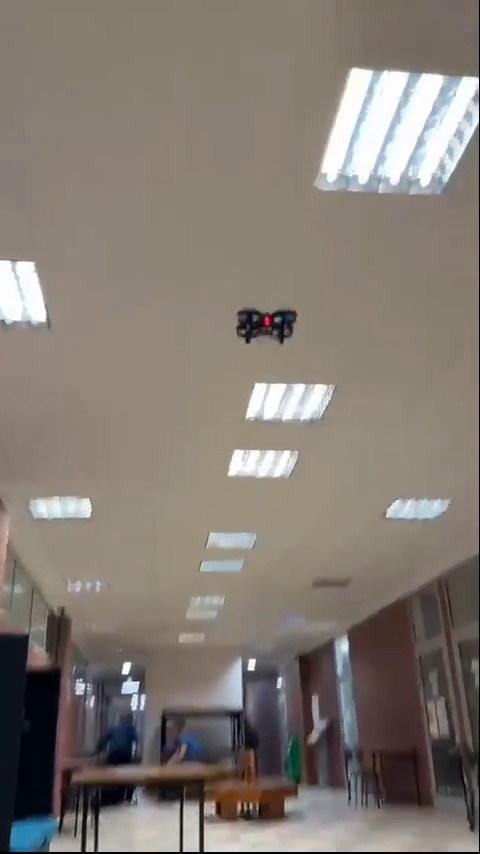drone: (236, 309, 299, 344)
no vest: (93, 706, 138, 758), (162, 715, 207, 767)
